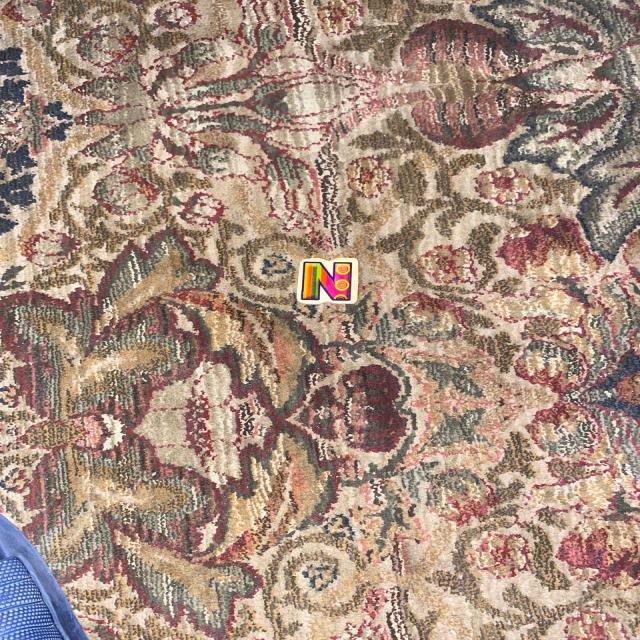N: (297, 260, 357, 303)
